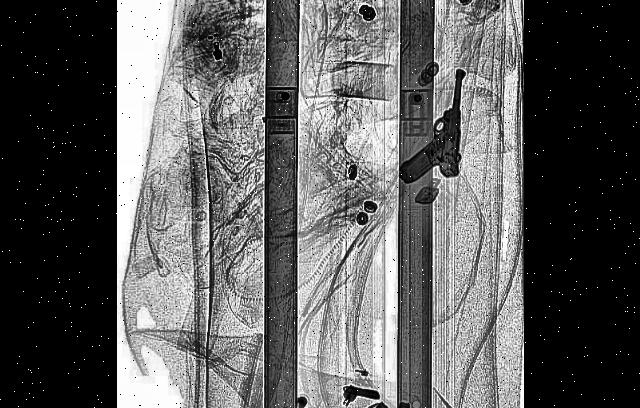Gun: (396, 53, 466, 195)
